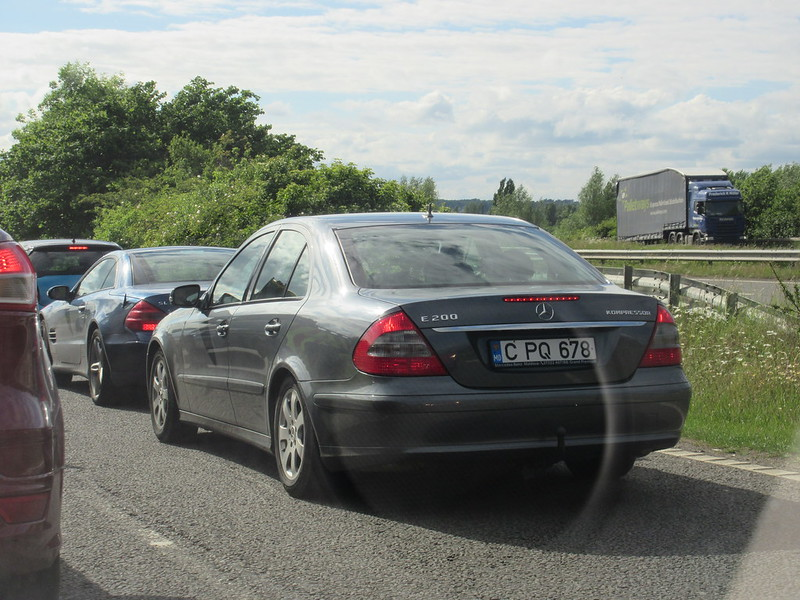number_plate: (476, 330, 607, 374)
